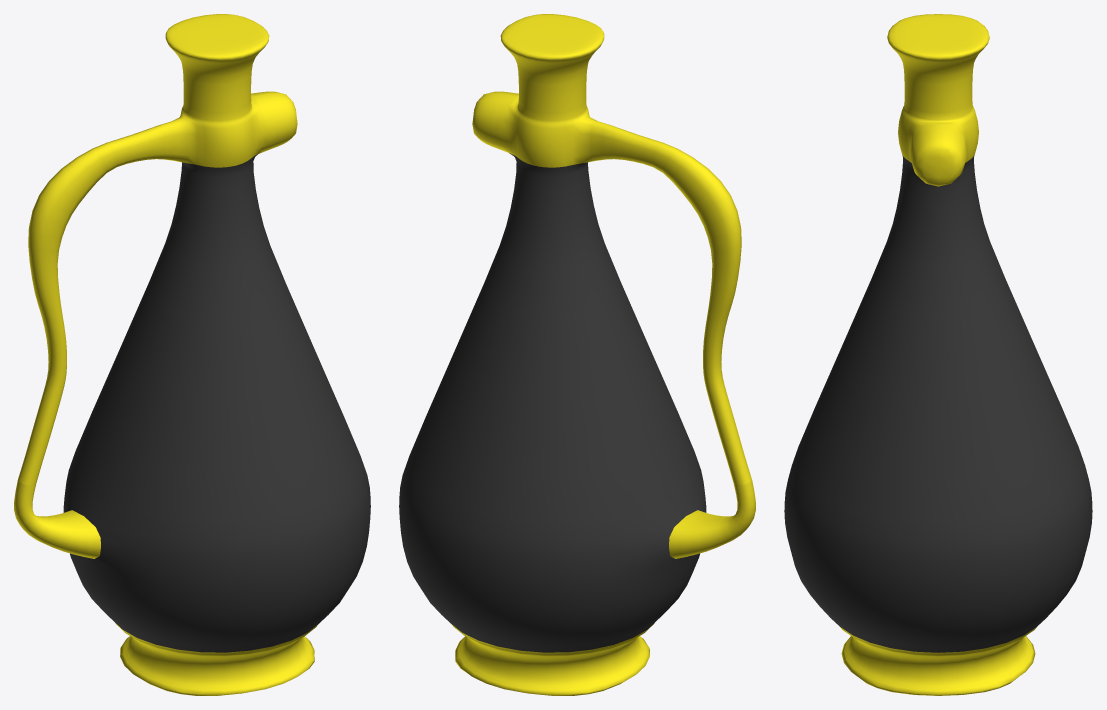
The model's file is Bottle (1).fbx.
The picture shows the model from 3 angles, left to right: view 1: azimuth 30°, elevation 25°; view 2: azimuth 150°, elevation 25°; view 3: azimuth 270°, elevation 25°; orthographic projection.
Visible parts, largest first — view 1: Bottle; view 2: Bottle; view 3: Bottle.
Boxes of the visible parts, <box> form: Bottle: <box>14,14,370,695</box>; Bottle: <box>399,14,755,695</box>; Bottle: <box>784,14,1092,695</box>.
Bounding box in the file's own units: 36.14 × 64.29 × 28.79.
